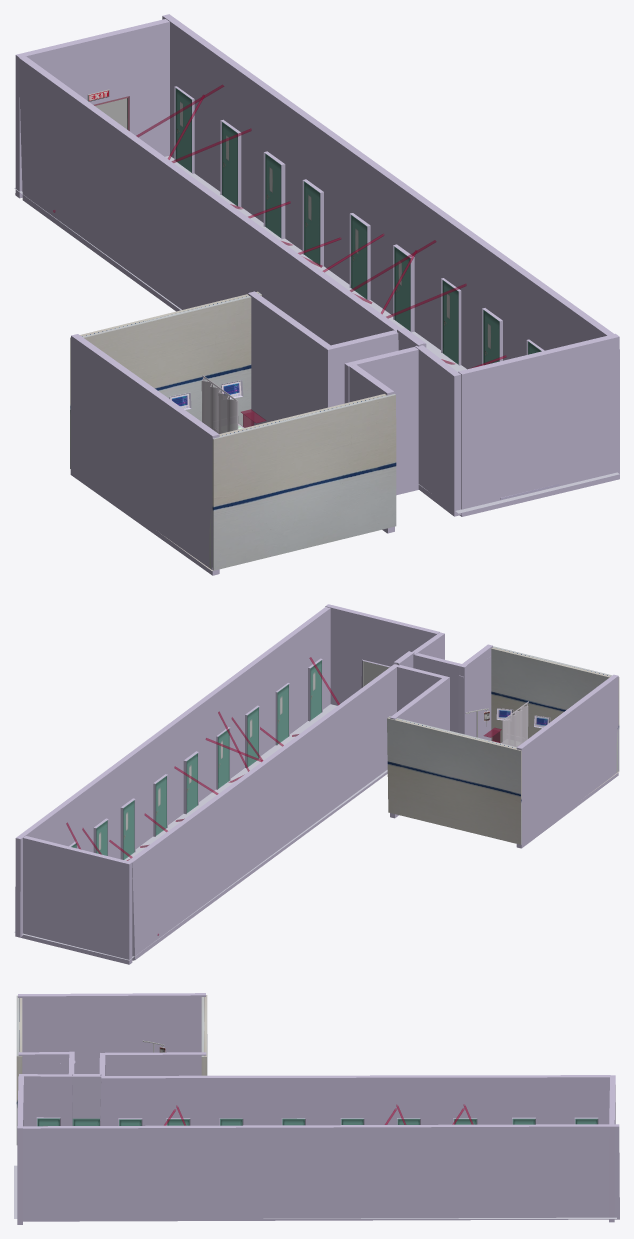
Rendered from FINAL FINAAAAAAAAAAL.fbx.
The picture shows the model from 3 angles, top to bottom: view 1: azimuth 30°, elevation 25°; view 2: azimuth 150°, elevation 25°; view 3: azimuth 270°, elevation 25°; orthographic projection. The views are drawn at different scales.
Visible parts, largest first — view 1: Cube__10_, pasted__pasted__pasted__pasted__Cube__7_, pasted__pasted__pasted__Cube__1_, Cube__9_, Cube__2_, pasted__pasted__pasted__pasted__Cube__1_, pasted__pasted__Cube__11_, pasted__pasted__Cube__4_, pasted__pasted__Cube__8_, pasted__pasted__pasted__pCube16 (×4), pasted__pasted__pCube16 (×3), pasted__pasted__pasted__pasted__pasted__Cube__6_ (+6 smaller); view 2: pasted__pasted__pasted__pasted__Cube__7_, Cube__10_, pasted__pasted__pasted__pasted__Cube__1_, pasted__pasted__Cube__11_, Cube__2_, pasted__pasted__pasted__Cube__1_, Cube__9_, pasted__pasted__pasted__pCube16 (×4), pasted__pasted__pasted__pasted__Cube__3_, pasted__pasted__Cube__4_, pasted__pasted__pCube16 (×2), Plane_1 (+8 smaller); view 3: Cube__10_, pasted__pasted__pasted__pasted__Cube__7_, Cube__2_, pasted__pasted__Cube__8_, pasted__pasted__Cube__4_, pasted__pasted__pasted__pCube16, Cube__9_, pasted__pasted__Cube__11_, pasted__pasted__pasted__Cube__1_, pasted__pasted__pasted__Cube__3_, pasted__pasted__pasted__pasted__Cube__1_, pasted__Plane_1 (+2 smaller).
Boxes of the visible parts, x1,y1,x2,y2 form: Cube__10_: [162, 14, 613, 369]; pasted__pasted__pasted__pasted__Cube__7_: [18, 56, 401, 345]; pasted__pasted__pasted__Cube__1_: [209, 394, 396, 570]; Cube__9_: [458, 333, 619, 516]; Cube__2_: [70, 334, 219, 575]; pasted__pasted__pasted__pasted__Cube__1_: [70, 291, 261, 468]; pasted__pasted__Cube__11_: [15, 19, 169, 198]; pasted__pasted__Cube__4_: [247, 291, 330, 425]; pasted__pasted__Cube__8_: [415, 345, 461, 516]; pasted__pasted__pasted__pCube16 (×4): [220, 119, 502, 365]; pasted__pasted__pCube16 (×3): [174, 86, 414, 332]; pasted__pasted__pasted__pasted__pasted__Cube__6_: [344, 347, 418, 495]; pasted__pasted__pasted__pasted__Cube__7_: [128, 664, 398, 960]; Cube__10_: [15, 607, 330, 937]; pasted__pasted__pasted__pasted__Cube__1_: [387, 716, 521, 844]; pasted__pasted__Cube__11_: [20, 836, 132, 964]; Cube__2_: [516, 674, 618, 848]; pasted__pasted__pasted__Cube__1_: [491, 646, 619, 772]; Cube__9_: [325, 604, 439, 705]; pasted__pasted__pasted__pCube16 (×4): [93, 683, 289, 856]; pasted__pasted__pasted__pasted__Cube__3_: [458, 656, 491, 740]; pasted__pasted__Cube__4_: [390, 678, 449, 818]; pasted__pasted__pCube16 (×2): [153, 751, 198, 836]; Plane_1: [14, 707, 387, 960]; Cube__10_: [23, 1124, 619, 1221]; pasted__pasted__pasted__pasted__Cube__7_: [100, 1075, 610, 1125]; Cube__2_: [18, 993, 205, 1073]; pasted__pasted__Cube__8_: [19, 1074, 72, 1126]; pasted__pasted__Cube__4_: [105, 1052, 206, 1075]; pasted__pasted__pasted__pCube16: [72, 1074, 101, 1125]; Cube__9_: [17, 1076, 23, 1224]; pasted__pasted__Cube__11_: [609, 1075, 615, 1222]; pasted__pasted__pasted__Cube__1_: [16, 995, 22, 1144]; pasted__pasted__pasted__Cube__3_: [18, 1052, 69, 1063]; pasted__pasted__pasted__pasted__Cube__1_: [201, 995, 207, 1075]; pasted__Plane_1: [14, 1165, 600, 1218].
Size of the model in its own units: 2836 by 950 by 5355.
